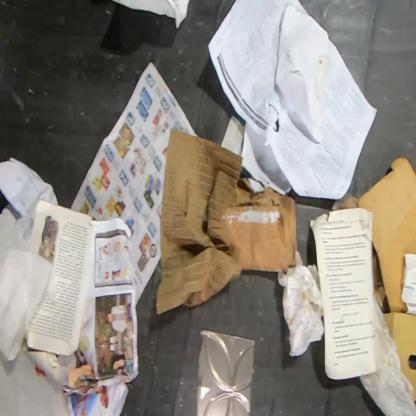cardboard: (155, 128, 297, 316), (334, 157, 415, 314), (380, 313, 415, 405)
metal: (196, 327, 255, 415)
